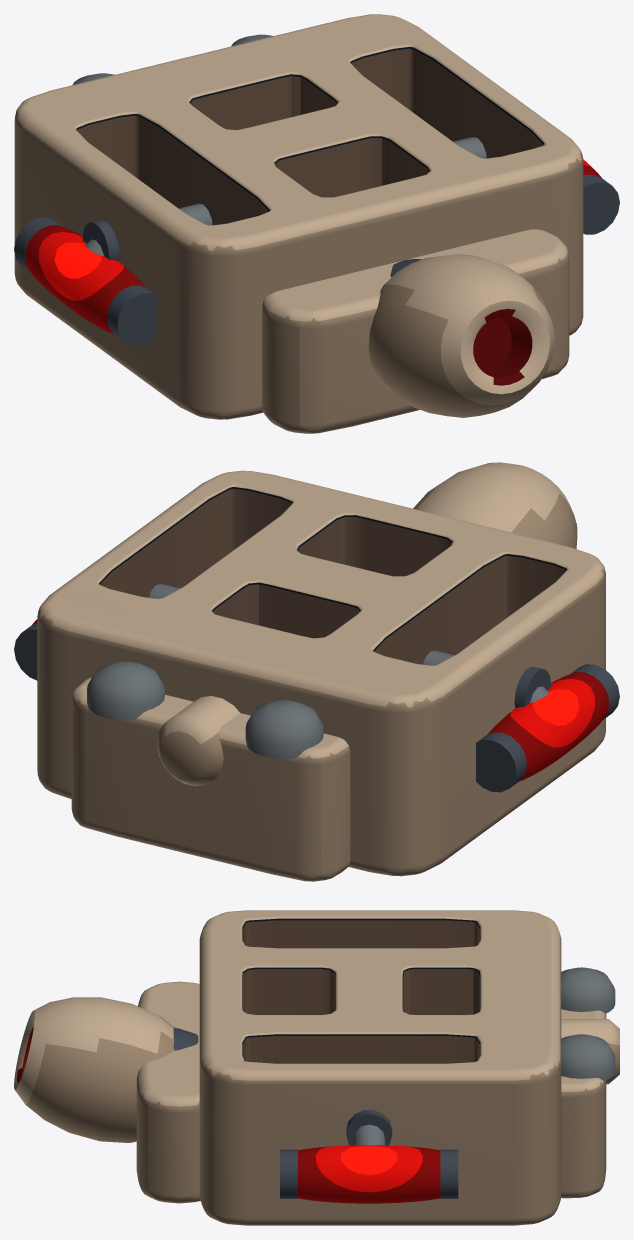
The model's file is cage_turret.glb.
3 views of the same model, one above another, from view 1: azimuth 30°, elevation 25°; view 2: azimuth 150°, elevation 25°; view 3: azimuth 270°, elevation 25° (orthographic). The views are drawn at different scales.
Parts seen in each view (by area): view 1: body, gun, chin, lamp0, lamp_cap00, lamp_cap10, collar0, lamp_cap01, pipe0; view 2: body, back, gun, lamp0, stub, knob0, knob1, lamp_cap01, lamp_cap11, collar0, lamp_cap00; view 3: body, gun, chin, lamp1, back, knob1, knob0, stub, lamp_cap11, lamp_cap10, collar1, pipe1 (+1 smaller).
Part boxes in pixels (bbox=[...]): body: bbox=[14, 14, 583, 419]; gun: bbox=[368, 254, 554, 417]; chin: bbox=[262, 229, 569, 433]; lamp0: bbox=[24, 225, 146, 334]; lamp_cap00: bbox=[107, 285, 157, 345]; lamp_cap10: bbox=[583, 175, 619, 234]; collar0: bbox=[82, 220, 119, 261]; lamp_cap01: bbox=[14, 217, 62, 272]; pipe0: bbox=[85, 203, 212, 255]; body: bbox=[37, 470, 605, 876]; back: bbox=[71, 678, 350, 881]; gun: bbox=[413, 462, 577, 548]; lamp0: bbox=[487, 672, 609, 781]; stub: bbox=[156, 696, 239, 786]; knob0: bbox=[245, 700, 323, 758]; knob1: bbox=[87, 661, 164, 720]; lamp_cap01: bbox=[476, 732, 526, 792]; lamp_cap11: bbox=[14, 623, 37, 680]; collar0: bbox=[514, 666, 551, 707]; lamp_cap00: bbox=[571, 664, 619, 719]; body: bbox=[199, 910, 561, 1225]; gun: bbox=[14, 997, 174, 1142]; chin: bbox=[136, 981, 200, 1203]; lamp1: bbox=[297, 1145, 440, 1203]; back: bbox=[561, 1009, 606, 1198]; knob1: bbox=[561, 1034, 615, 1080]; knob0: bbox=[561, 967, 615, 1013]; stub: bbox=[561, 1019, 619, 1084]; lamp_cap11: bbox=[440, 1149, 458, 1198]; lamp_cap10: bbox=[280, 1149, 297, 1198]; collar1: bbox=[346, 1110, 392, 1145]; pipe1: bbox=[353, 1124, 385, 1145].
Size of the model in its own units: 22.61 by 7.6 by 26.83.
